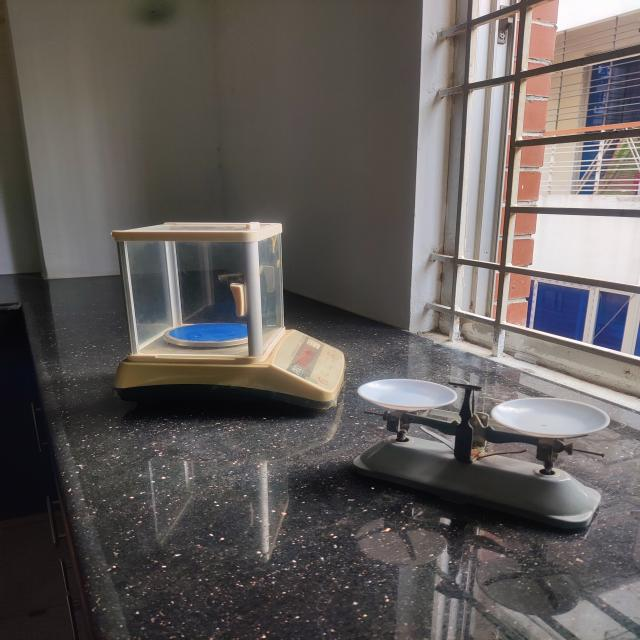Mechanical_Balance_Scale: (336, 338, 622, 552)
Precision_Weight_Scale: (71, 195, 357, 428)
